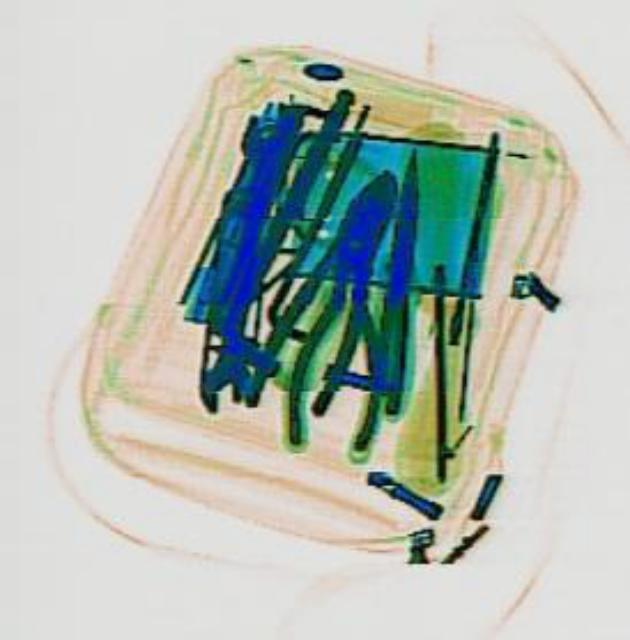Pliers: (227, 152, 427, 432), (277, 189, 397, 451)
Wrench: (193, 182, 266, 410), (231, 110, 287, 202)
